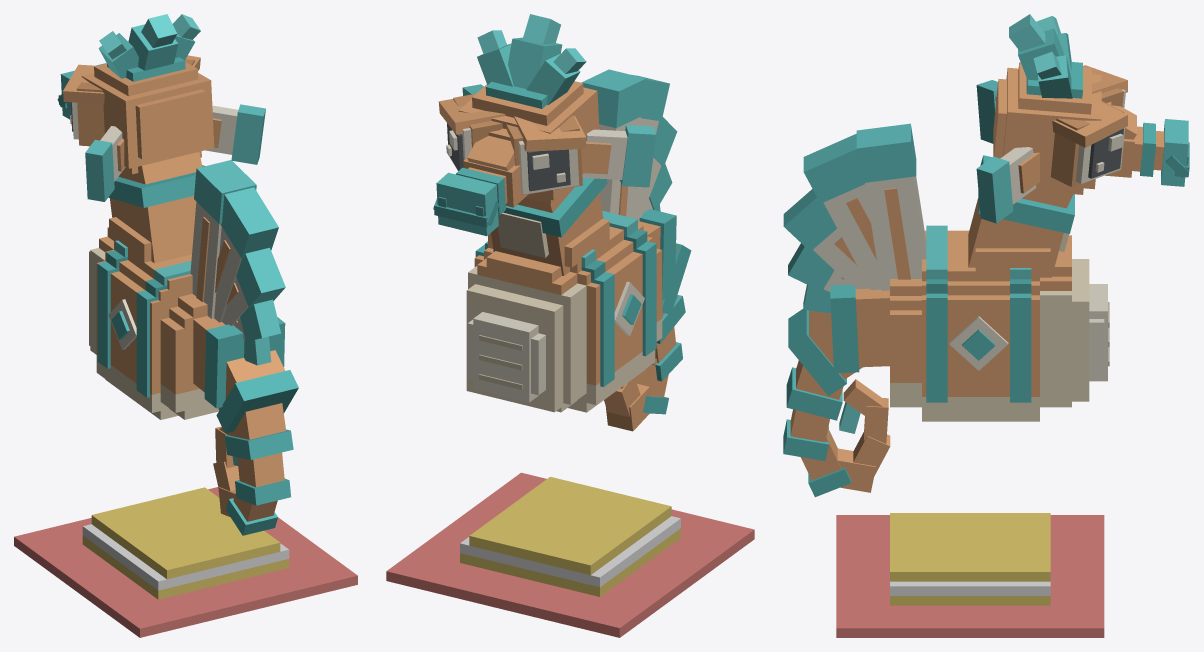
File: SeahorseRocker2.glb
3 views of the same model, side by side, from view 1: azimuth 30°, elevation 25°; view 2: azimuth 150°, elevation 25°; view 3: azimuth 270°, elevation 25° (orthographic). The views are drawn at different scales.
Visible parts, largest first — view 1: Stand, Body, Head, Fan, Neck, T2, T1, T3, FinR, T4, FinL, T5 (+1 smaller); view 2: Stand, Body, Head, Fan, Neck, FinL, T1, T5, T4, T6, T7, T2 (+1 smaller); view 3: Body, Stand, Head, Fan, Neck, T1, FinR, T2, T3, T4, T5, FinL (+4 smaller).
Boxes of the visible parts, bbox=[...] form: Stand: bbox=[14, 487, 357, 637]; Body: bbox=[89, 217, 219, 419]; Head: bbox=[57, 14, 214, 174]; Fan: bbox=[190, 160, 285, 365]; Neck: bbox=[108, 152, 205, 263]; T2: bbox=[216, 350, 298, 433]; T1: bbox=[193, 316, 285, 408]; T3: bbox=[224, 403, 293, 459]; FinR: bbox=[205, 104, 265, 164]; T4: bbox=[235, 452, 290, 505]; FinL: bbox=[85, 126, 125, 201]; T5: bbox=[225, 493, 277, 535]; Stand: bbox=[386, 472, 754, 637]; Body: bbox=[466, 211, 662, 412]; Head: bbox=[433, 14, 599, 236]; Fan: bbox=[582, 69, 677, 222]; Neck: bbox=[491, 178, 607, 275]; FinL: bbox=[581, 125, 656, 187]; T1: bbox=[638, 209, 676, 299]; T5: bbox=[635, 358, 668, 414]; T4: bbox=[652, 327, 682, 381]; T6: bbox=[605, 383, 649, 431]; T7: bbox=[604, 377, 640, 417]; T2: bbox=[662, 243, 691, 314]; Body: bbox=[890, 225, 1109, 421]; Stand: bbox=[836, 513, 1104, 637]; Head: bbox=[993, 14, 1189, 194]; Fan: bbox=[783, 123, 926, 313]; Neck: bbox=[968, 155, 1074, 277]; T1: bbox=[830, 284, 889, 373]; FinR: bbox=[976, 147, 1039, 223]; T2: bbox=[788, 309, 862, 396]; T3: bbox=[786, 360, 843, 420]; T4: bbox=[783, 409, 829, 461]; T5: bbox=[800, 428, 851, 497]; FinL: bbox=[976, 80, 997, 143].
Size of the model in its own units: 10 by 23.16 by 15.16.
